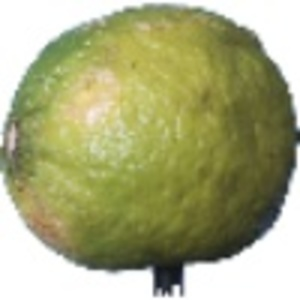limão: (1, 4, 300, 296)
